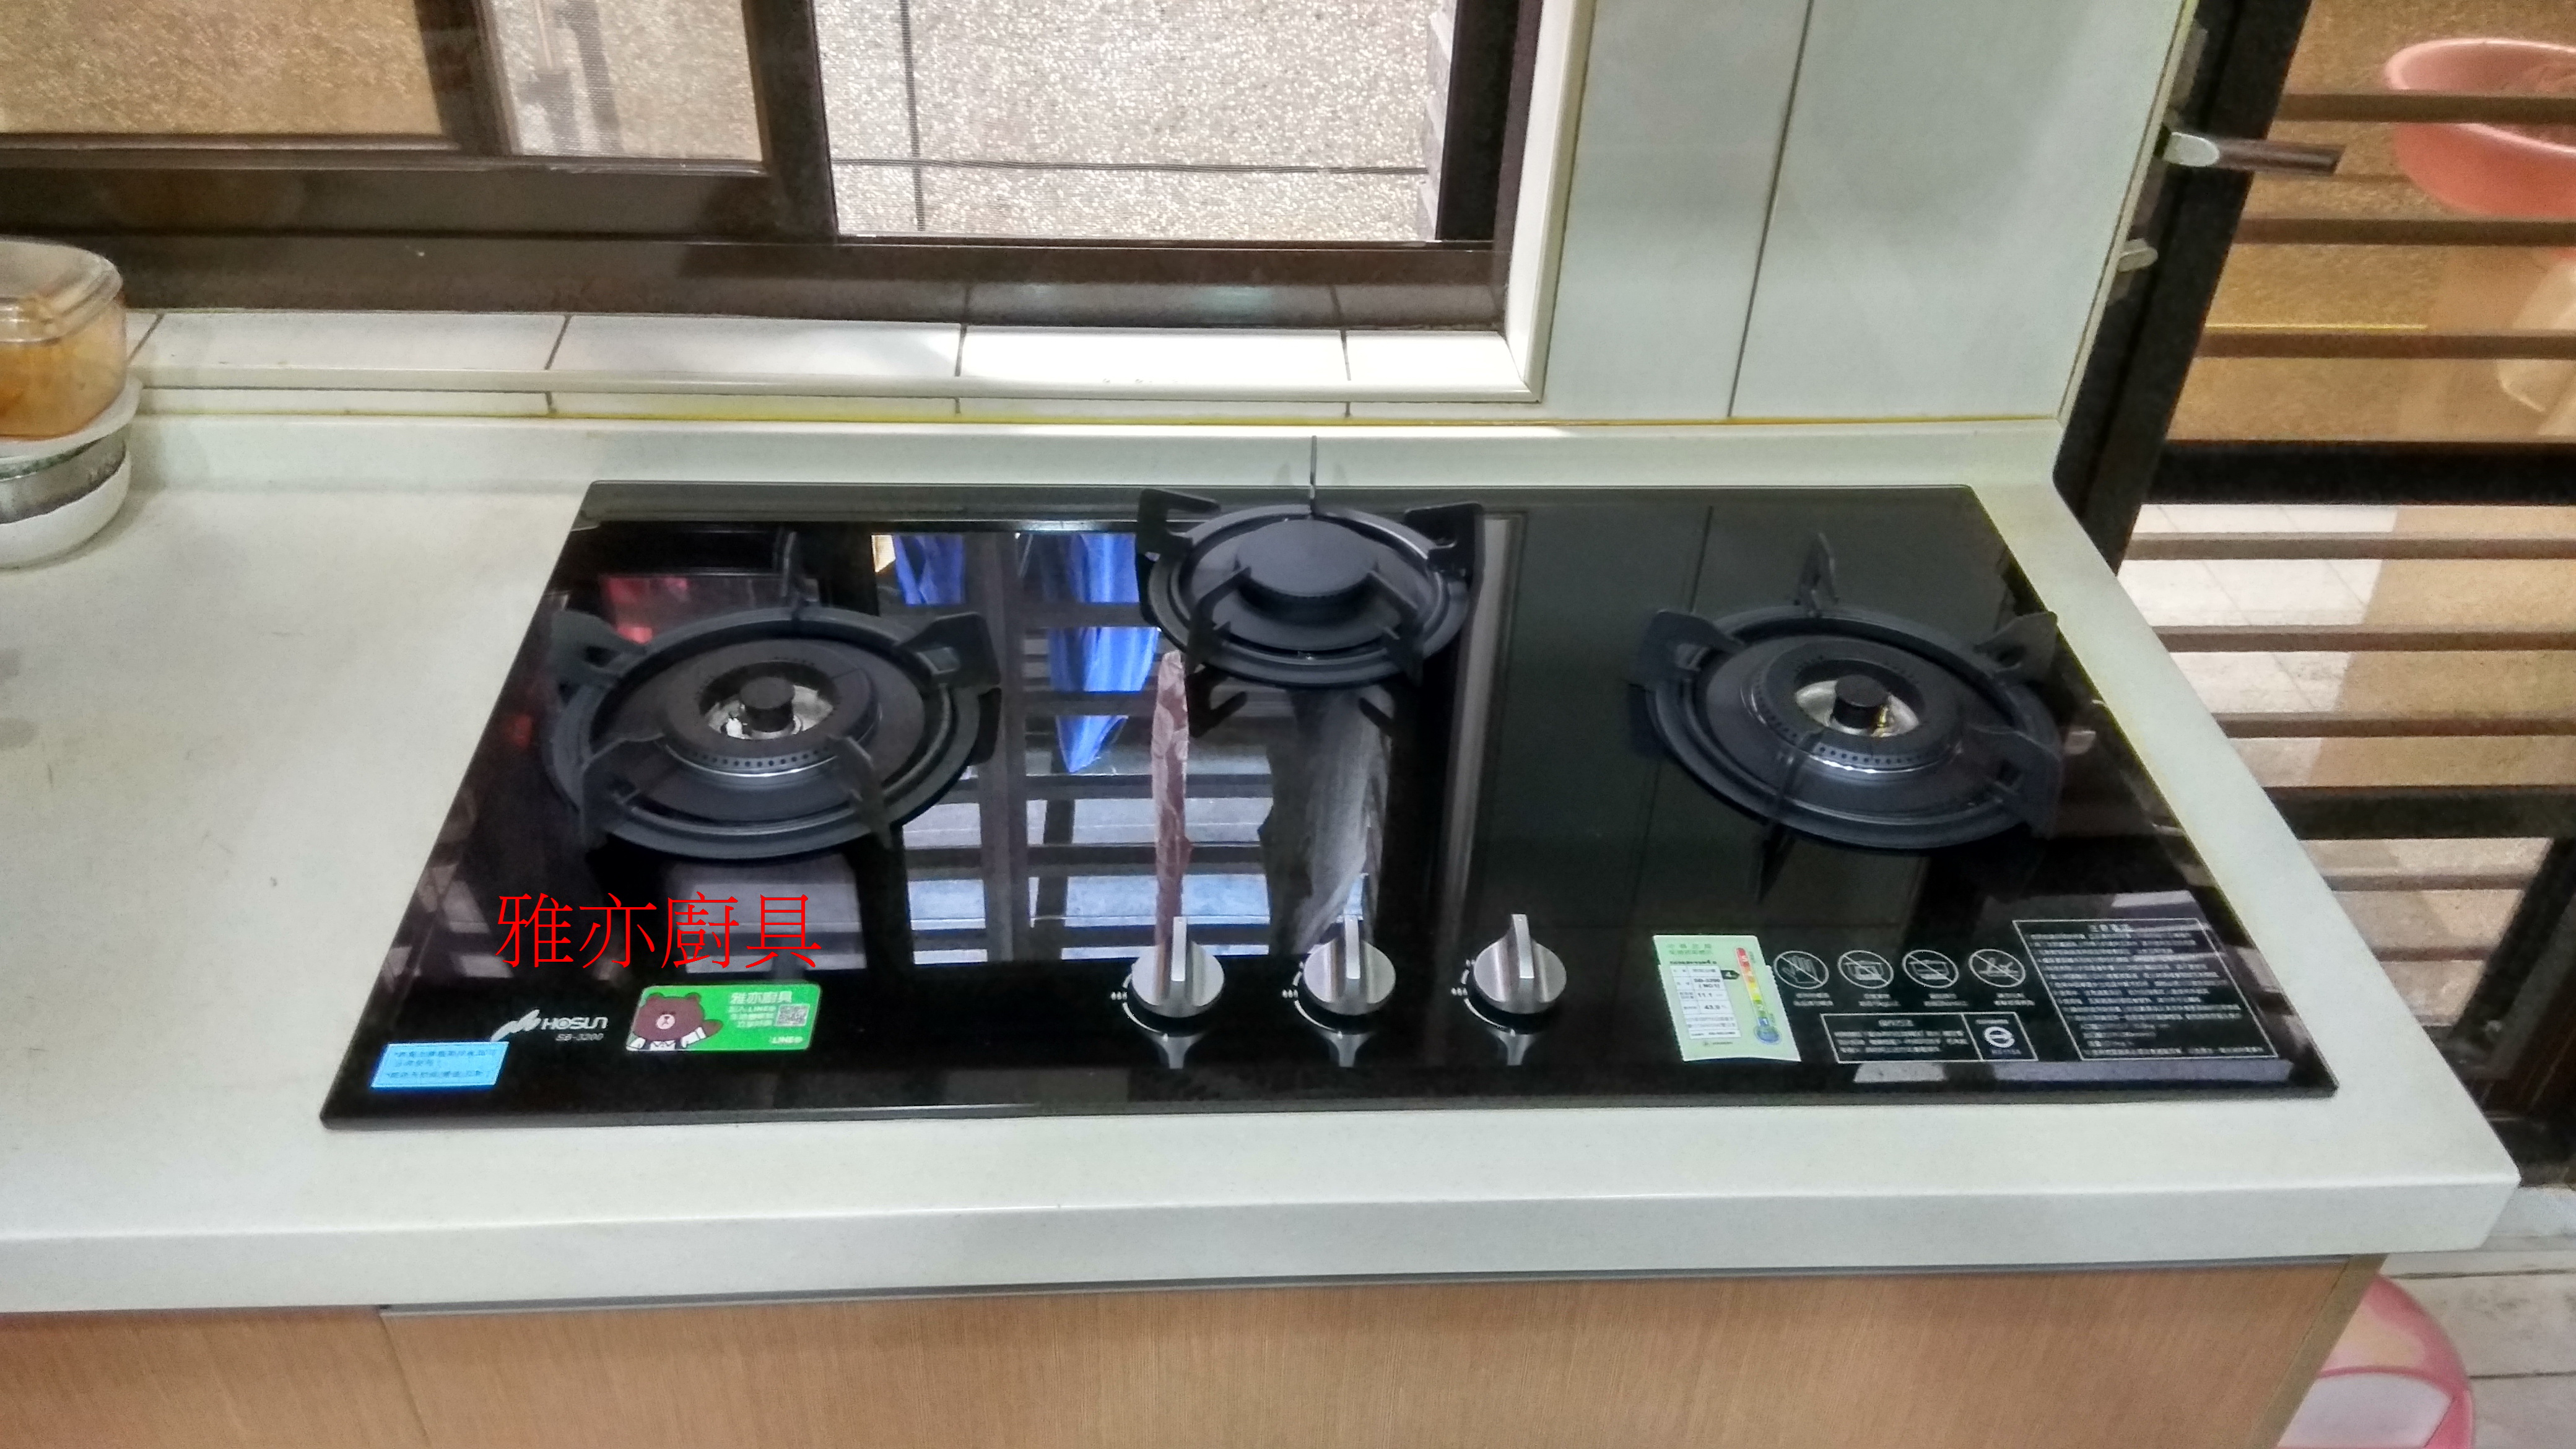gasoven: (311, 471, 2337, 1132)
